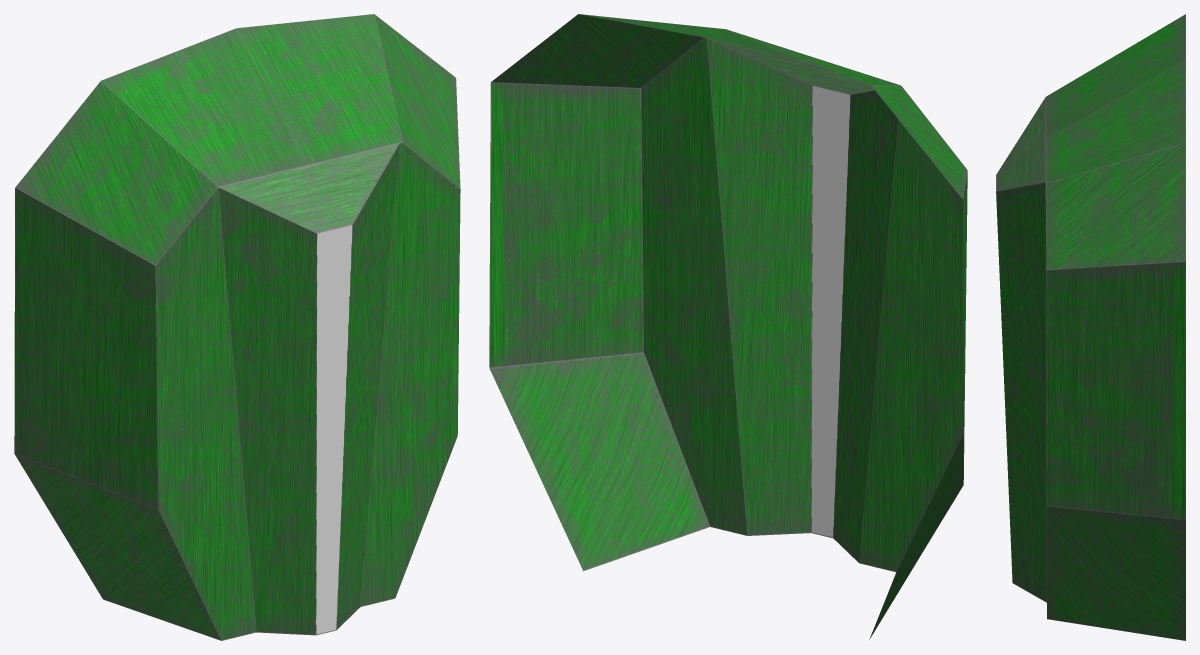
The model's file is CubeBaseFrontColumn4Top.fbx.
3 views of the same model, side by side, from view 1: azimuth 30°, elevation 25°; view 2: azimuth 150°, elevation 25°; view 3: azimuth 270°, elevation 25° (orthographic). The views are drawn at different scales.
Visible parts, largest first — view 1: pCube1; view 2: pCube1; view 3: pCube1.
Part boxes in pixels (x1,y1,x2,y2): pCube1: (14, 14, 460, 640); pCube1: (489, 14, 967, 639); pCube1: (996, 14, 1185, 640).
Size of the model in its own units: 0.8606 by 1 by 0.3313.
1 material, 1 textured.
